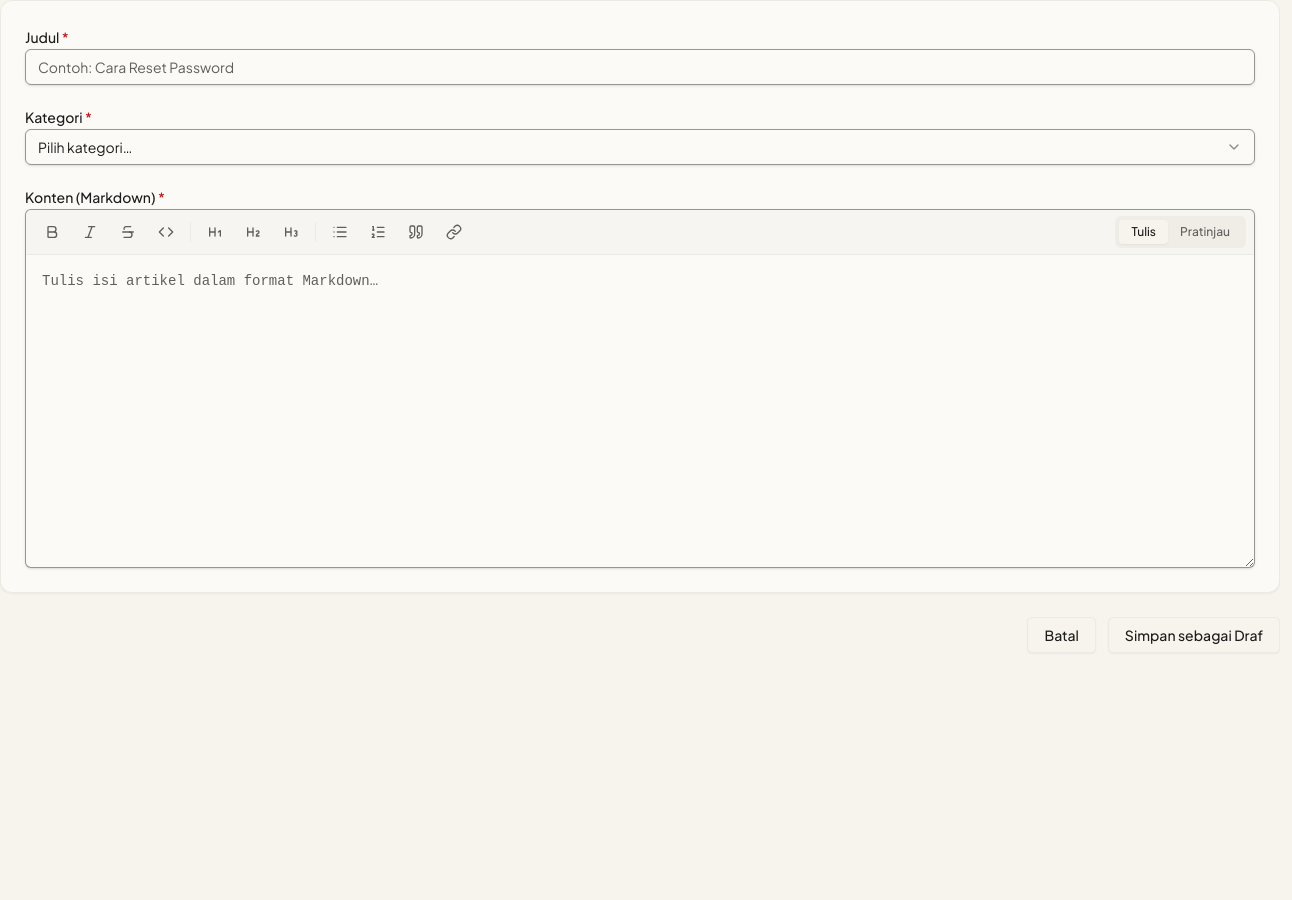
it: ArticleEditor markdown toolbar › wraps the selected text in bold markers when Tebal is clicked
Type "halo" into the text box labelled "Konten (Markdown) *" at (640, 411), box [26, 255, 1254, 567]
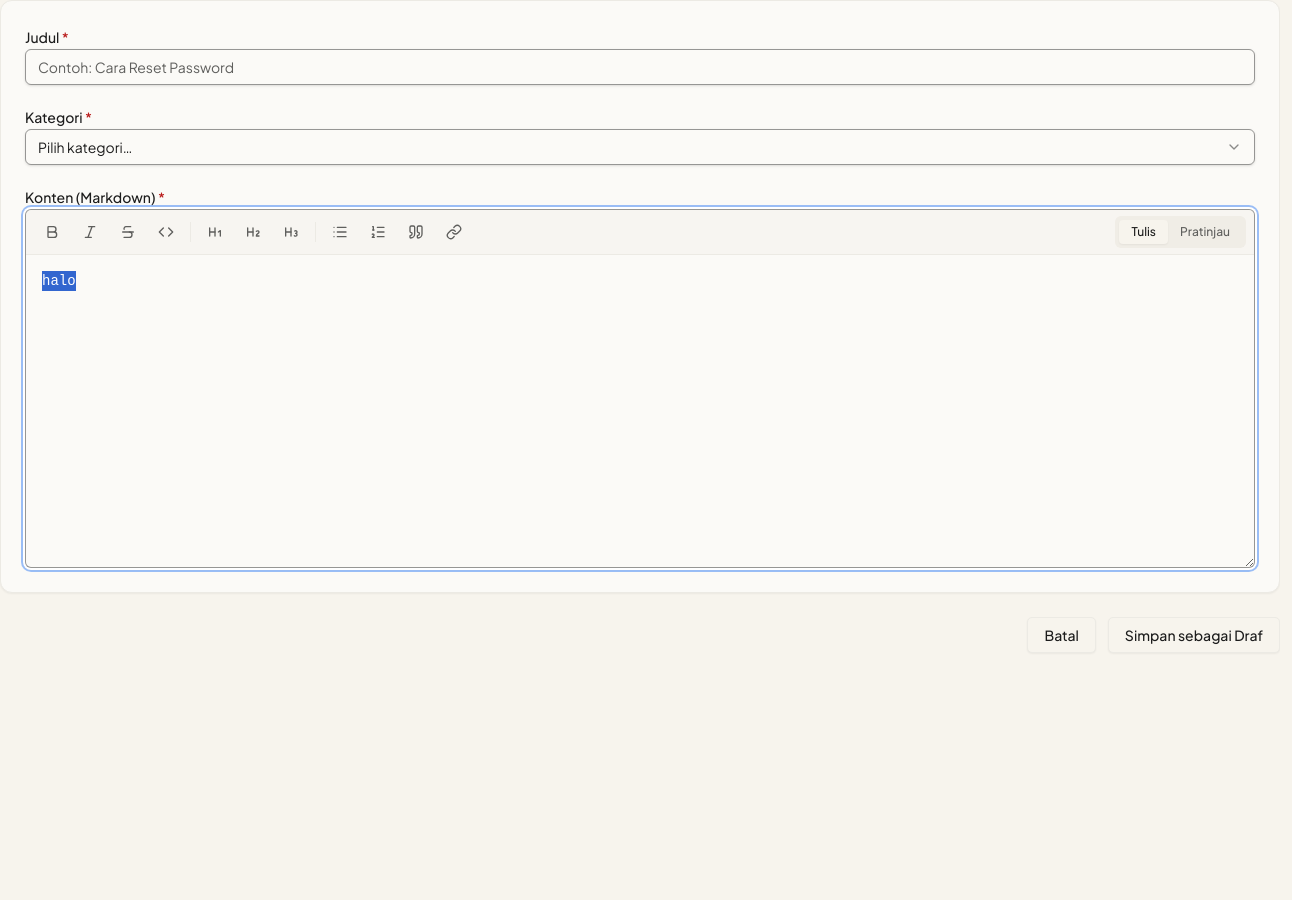
Click the button named "tebal" at (52, 232), box [34, 216, 70, 248]
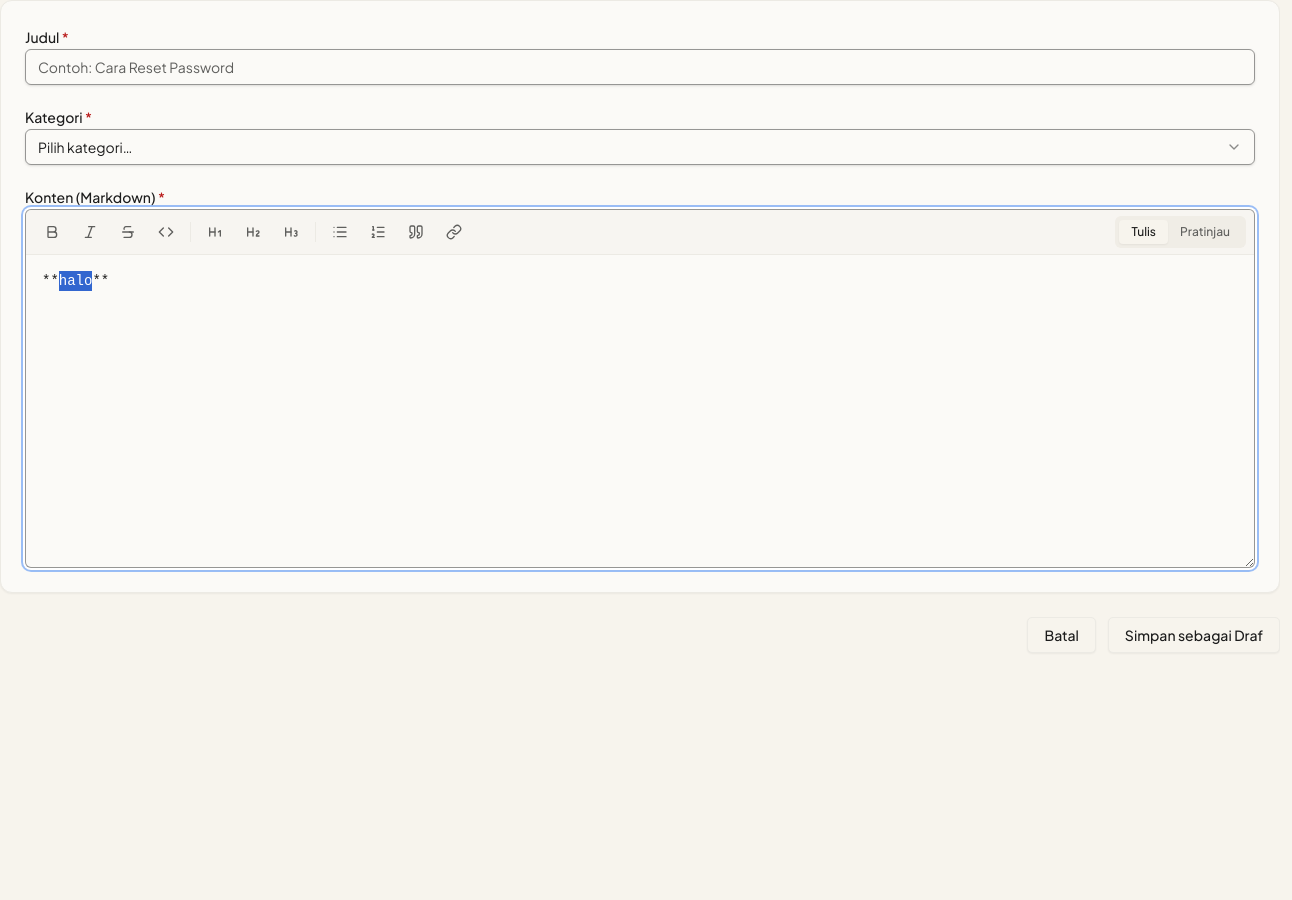
expect the text box labelled "Konten (Markdown) *" holds "**halo**": met, box [26, 255, 1254, 567]
